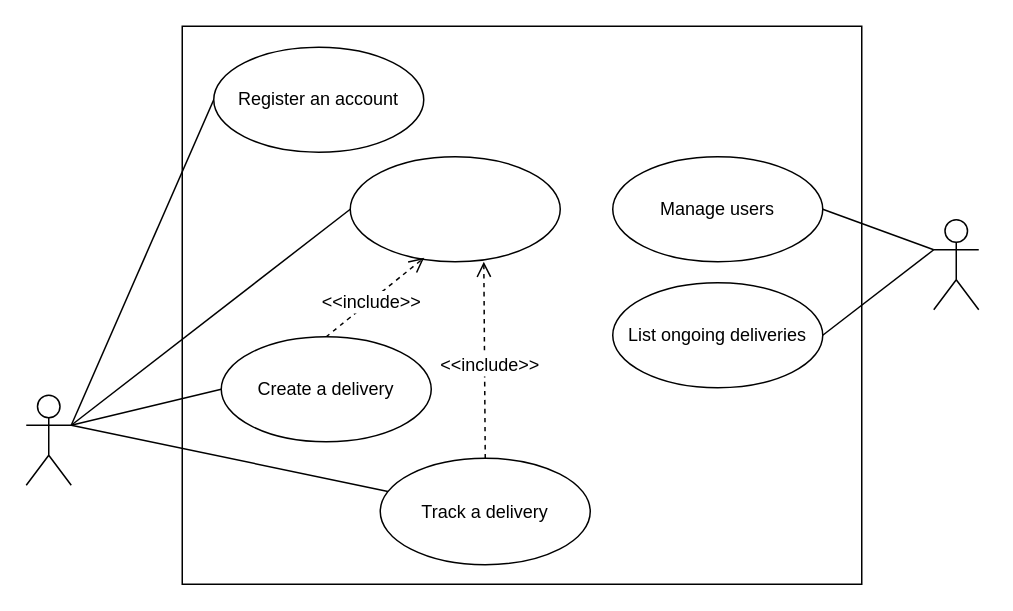
The diagram is 1013 pixels wide and 611 high, and some of its shapes have lost their labels. Here are the shapes that lost their labels. From the top down, the centre of each, then its label:
At point (454, 208): "Login".
At point (955, 264): "System".
At point (48, 439): "User".
